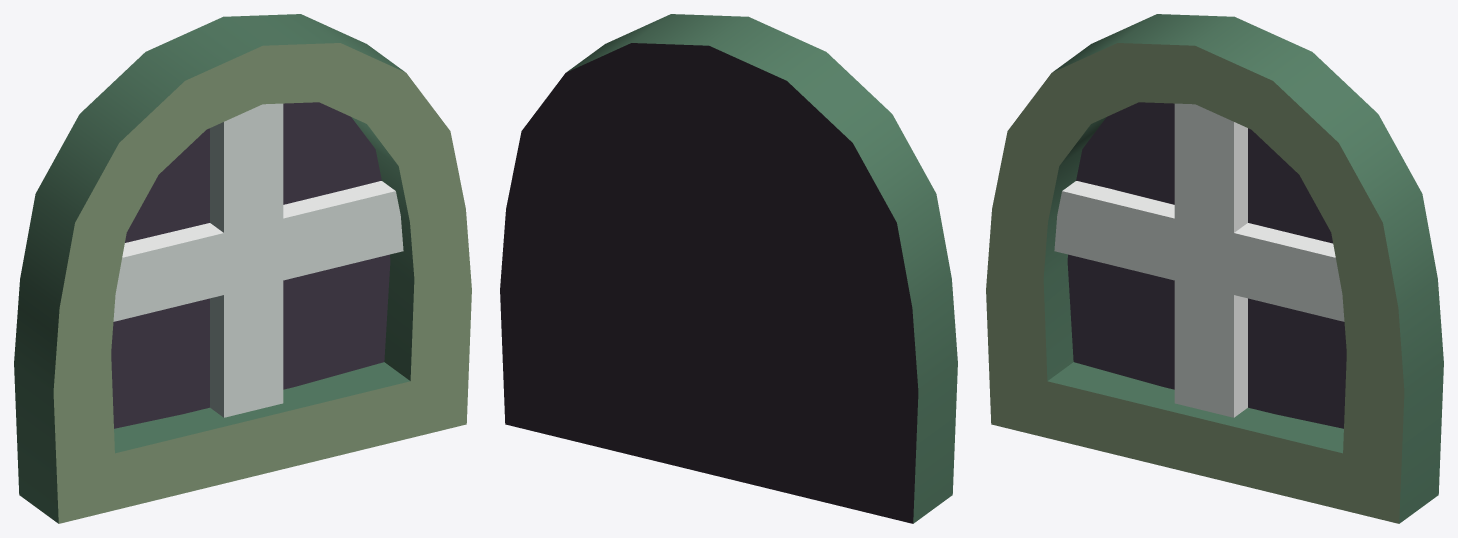
The model's file is SmallWindow01_Green_White.glb.
3 views of the same model, side by side, from view 1: azimuth 30°, elevation 25°; view 2: azimuth 150°, elevation 25°; view 3: azimuth 330°, elevation 25° (orthographic).
Visible parts, largest first — view 1: SmallWindow01_Green_White; view 2: SmallWindow01_Green_White; view 3: SmallWindow01_Green_White.
Boxes of the visible parts, x1,y1,x2,y2 form: SmallWindow01_Green_White: (14, 14, 471, 523); SmallWindow01_Green_White: (500, 14, 957, 523); SmallWindow01_Green_White: (986, 14, 1443, 523).
Bounding box in the file's own units: 0.5801 × 0.5676 × 0.0949.
1 material, 1 textured.
